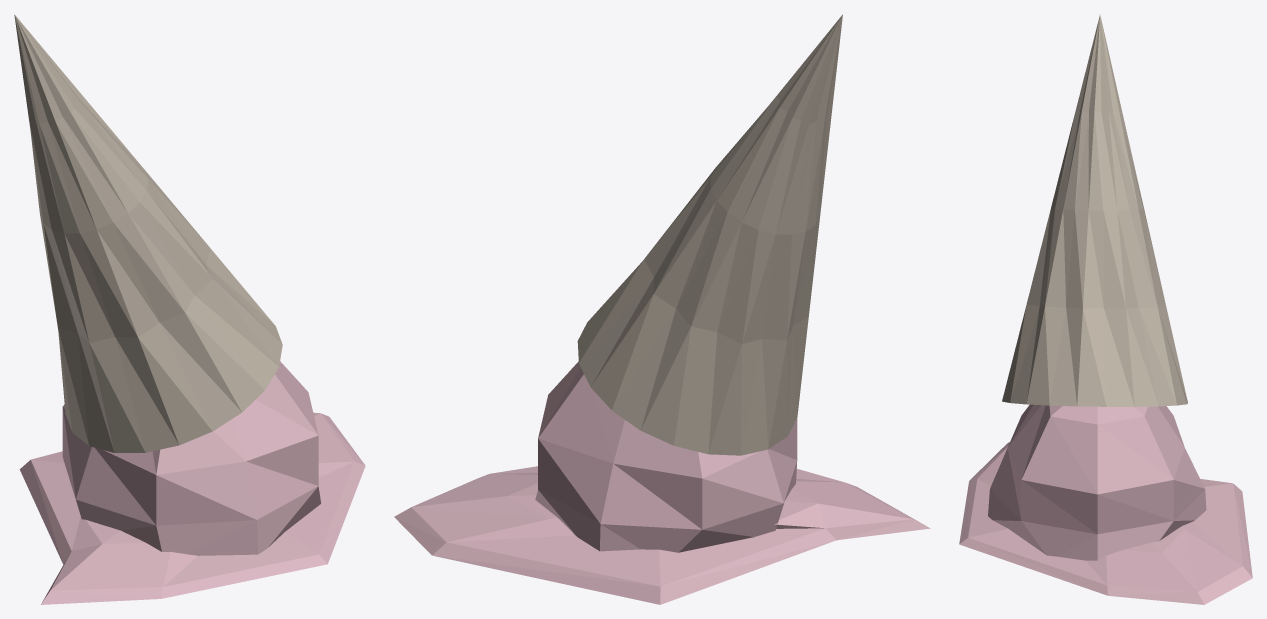
File: iceCone.fbx
The picture shows the model from 3 angles, left to right: view 1: azimuth 30°, elevation 25°; view 2: azimuth 150°, elevation 25°; view 3: azimuth 270°, elevation 25°; orthographic projection. The views are drawn at different scales.
Visible parts, largest first — view 1: pSphere6; view 2: pSphere6; view 3: pSphere6.
Boxes of the visible parts, bbox=[...] form: pSphere6: bbox=[14, 14, 365, 604]; pSphere6: bbox=[394, 14, 930, 604]; pSphere6: bbox=[959, 14, 1252, 604].
Bounding box in the file's own units: 0.0339 × 0.0431 × 0.0259.
